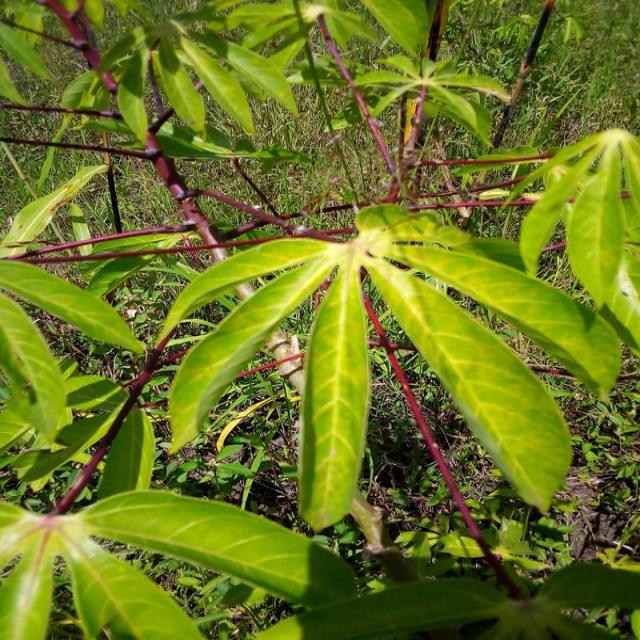cassava leaf: (156, 201, 620, 530), (362, 250, 574, 515), (365, 205, 624, 402), (166, 239, 344, 455), (65, 487, 358, 610), (298, 249, 371, 532)
